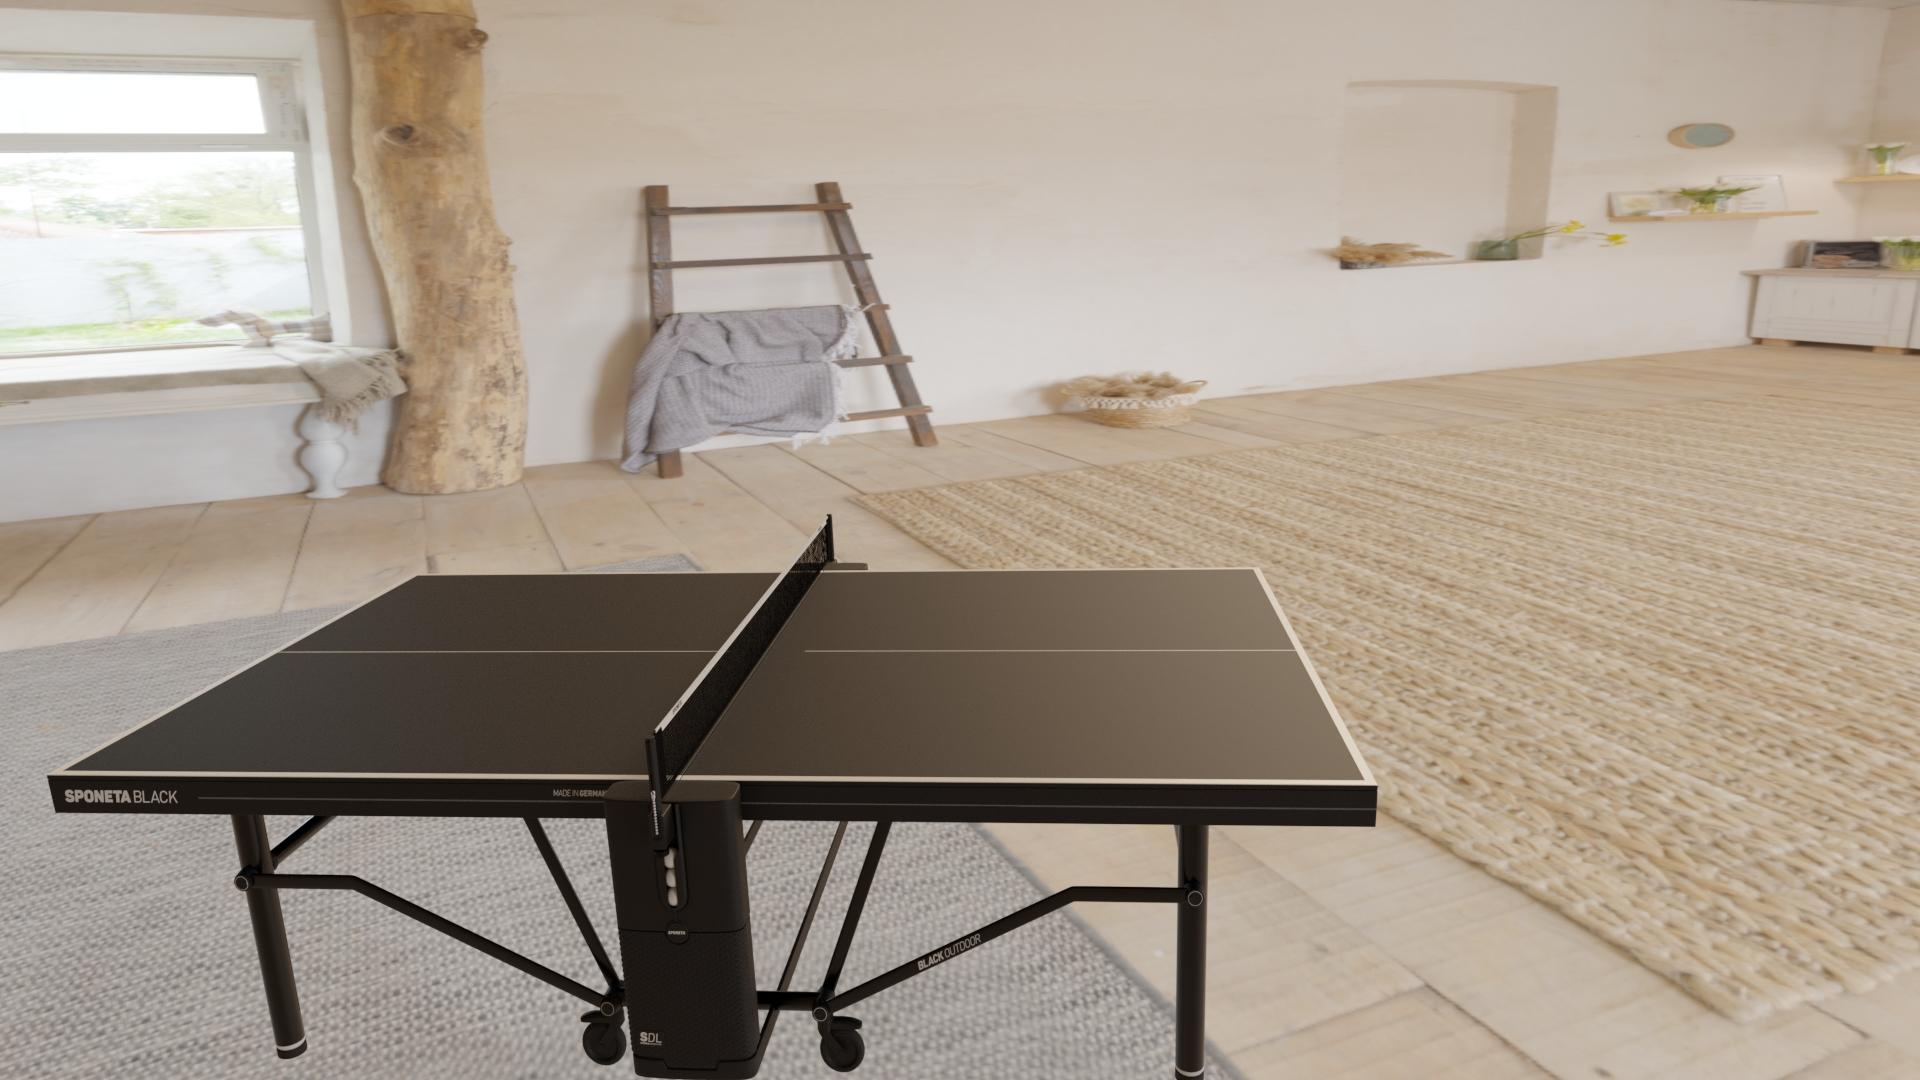table: (62, 570, 1365, 781)
